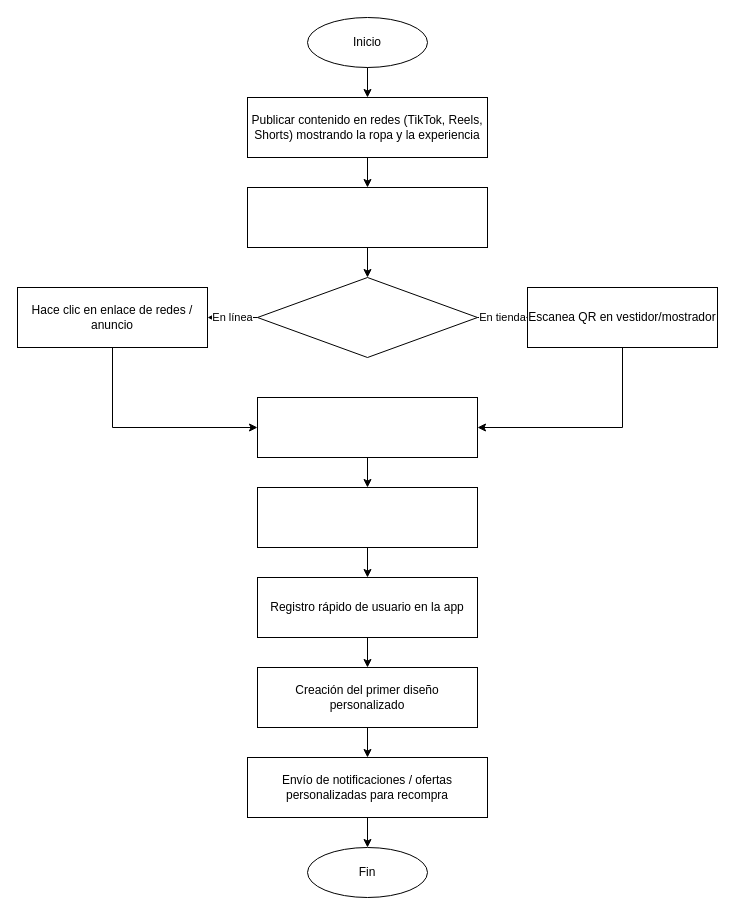
The diagram is 735 pixels wide and 915 high, and some of its shapes have lost their labels. The centre of each missing label's shape, as x and y in pixels:
Colocar código QR y publicidad visible dentro de la tienda física: [367,217]
Llega a la App / Tienda de aplicaciones: [367,427]
Ofrecer incentivo inicial (ej. % de descuento en el primer diseño): [367,517]
¿Por qué medio conoce el cliente la app?: [367,317]
